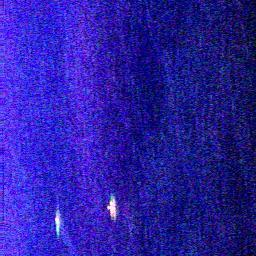Ship: (52, 209, 65, 236), (107, 196, 116, 221)
